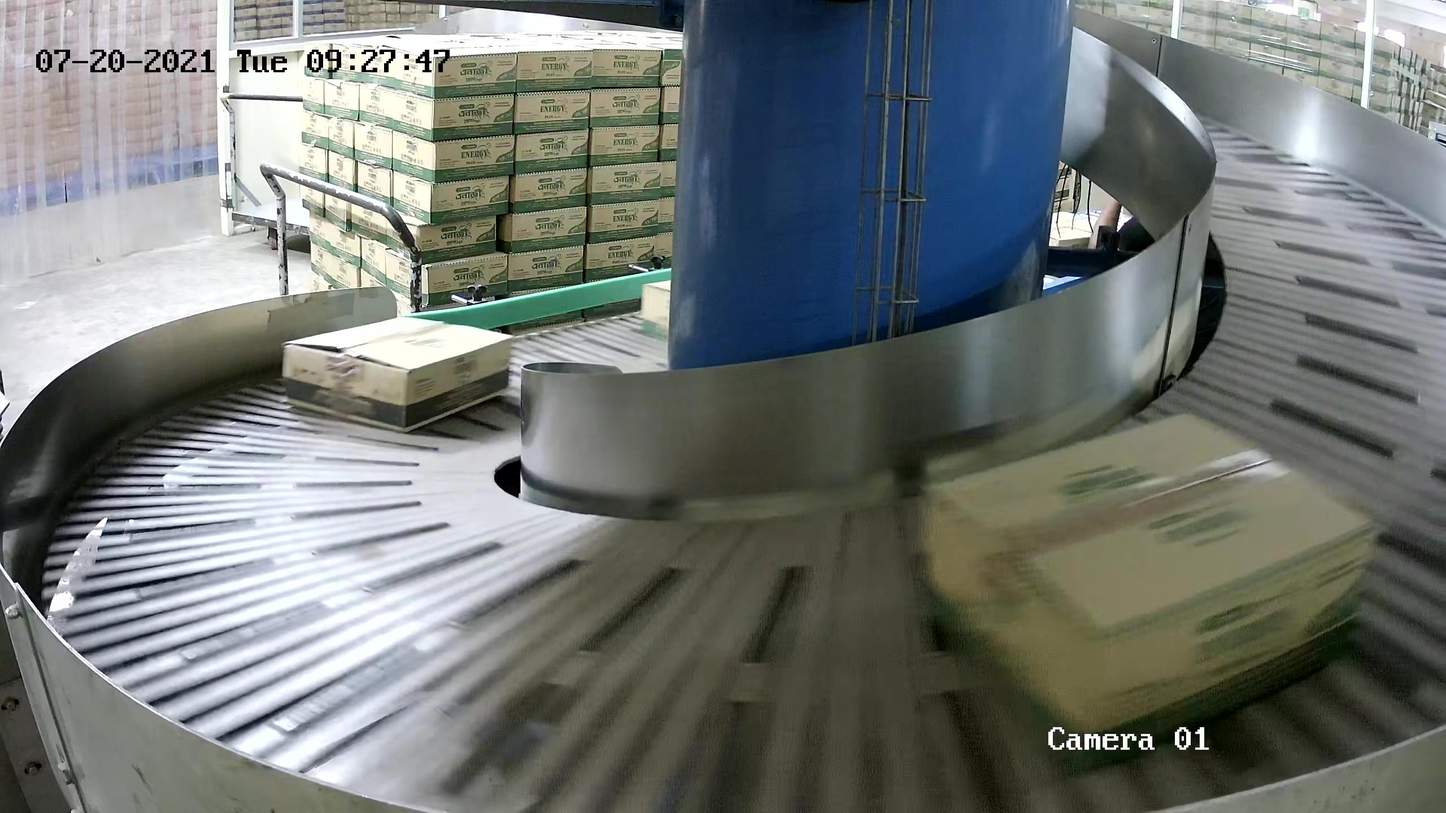Box: (915, 409, 1384, 775), (280, 316, 514, 434), (639, 279, 671, 342)
